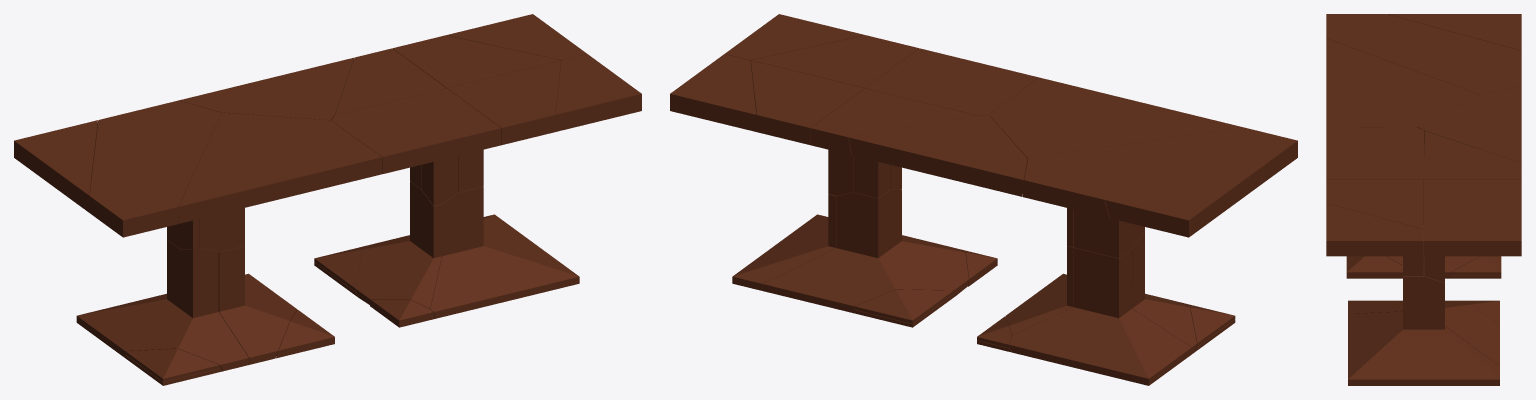
Rendered from TischGroß_kaputt.glb.
3 views of the same model, side by side, from view 1: azimuth 30°, elevation 25°; view 2: azimuth 150°, elevation 25°; view 3: azimuth 270°, elevation 25° (orthographic). The views are drawn at different scales.
Parts seen in each view (by area): view 1: Großer Tisch_cell.003, Großer Tisch_cell.009, Großer Tisch_cell.017, Großer Tisch_cell.007, Großer Tisch_cell.005, Großer Tisch_cell.019, Großer Tisch_cell.008, Großer Tisch_cell.013, Großer Tisch_cell.010, Großer Tisch_cell.016, Großer Tisch_cell.001, Großer Tisch_cell.012 (+7 smaller); view 2: Großer Tisch_cell.009, Großer Tisch_cell.008, Großer Tisch_cell.014, Großer Tisch_cell.003, Großer Tisch_cell.013, Großer Tisch_cell.007, Großer Tisch_cell.016, Großer Tisch_cell.018, Großer Tisch_cell.012, Großer Tisch_cell.019, Großer Tisch_cell.004, Großer Tisch_cell.017 (+7 smaller); view 3: Großer Tisch_cell.017, Großer Tisch_cell.009, Großer Tisch_cell.003, Großer Tisch_cell.007, Großer Tisch_cell.013, Großer Tisch_cell.016, Großer Tisch_cell.019, Großer Tisch_cell.004, Großer Tisch_cell.001, Großer Tisch_cell.018, Großer Tisch_cell.008, Großer Tisch_cell.012 (+6 smaller).
Boxes of the visible parts, bbox=[...] form: Großer Tisch_cell.003: bbox=[178, 112, 382, 251]; Großer Tisch_cell.009: bbox=[85, 100, 221, 248]; Großer Tisch_cell.017: bbox=[430, 186, 579, 318]; Großer Tisch_cell.007: bbox=[331, 88, 501, 205]; Großer Tisch_cell.005: bbox=[120, 247, 248, 371]; Großer Tisch_cell.019: bbox=[447, 60, 561, 192]; Großer Tisch_cell.008: bbox=[355, 181, 442, 308]; Großer Tisch_cell.013: bbox=[179, 57, 353, 120]; Großer Tisch_cell.010: bbox=[218, 246, 296, 364]; Großer Tisch_cell.016: bbox=[393, 35, 560, 88]; Großer Tisch_cell.001: bbox=[555, 54, 641, 130]; Großer Tisch_cell.012: bbox=[14, 120, 97, 209]; Großer Tisch_cell.009: bbox=[1022, 127, 1297, 258]; Großer Tisch_cell.008: bbox=[762, 189, 968, 312]; Großer Tisch_cell.014: bbox=[1009, 247, 1191, 385]; Großer Tisch_cell.003: bbox=[989, 77, 1241, 247]; Großer Tisch_cell.013: bbox=[848, 115, 1027, 196]; Großer Tisch_cell.007: bbox=[865, 48, 1038, 189]; Großer Tisch_cell.016: bbox=[750, 60, 864, 195]; Großer Tisch_cell.018: bbox=[810, 88, 976, 198]; Großer Tisch_cell.012: bbox=[1105, 165, 1263, 237]; Großer Tisch_cell.019: bbox=[751, 35, 918, 88]; Großer Tisch_cell.004: bbox=[670, 54, 756, 130]; Großer Tisch_cell.017: bbox=[732, 194, 962, 290]; Großer Tisch_cell.017: bbox=[1348, 266, 1499, 385]; Großer Tisch_cell.009: bbox=[1326, 14, 1521, 94]; Großer Tisch_cell.003: bbox=[1326, 38, 1479, 156]; Großer Tisch_cell.007: bbox=[1326, 127, 1423, 194]; Großer Tisch_cell.013: bbox=[1417, 86, 1521, 162]; Großer Tisch_cell.016: bbox=[1424, 179, 1521, 282]; Großer Tisch_cell.019: bbox=[1326, 179, 1423, 275]; Großer Tisch_cell.004: bbox=[1424, 203, 1521, 256]; Großer Tisch_cell.001: bbox=[1326, 203, 1423, 256]; Großer Tisch_cell.018: bbox=[1424, 130, 1521, 179]; Großer Tisch_cell.008: bbox=[1352, 255, 1499, 365]; Großer Tisch_cell.012: bbox=[1387, 14, 1521, 50].
Bounding box in the file's own units: 2.91 × 1 × 1.06.
